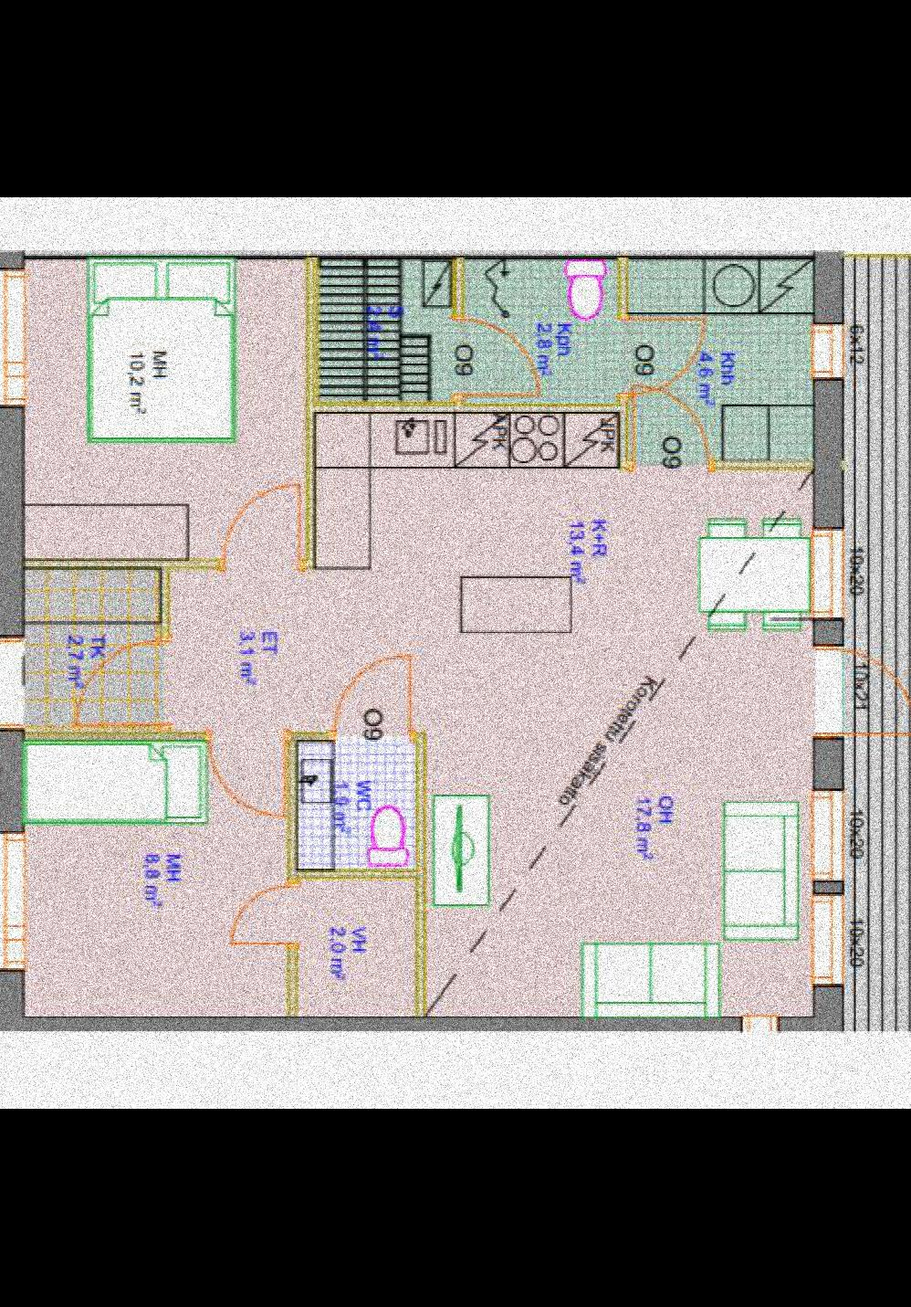door: (807, 638, 911, 744), (76, 637, 171, 730), (459, 314, 550, 408), (222, 477, 310, 573), (333, 645, 419, 739), (214, 724, 299, 817), (628, 386, 702, 479), (631, 313, 707, 397), (220, 876, 296, 959), (0, 639, 20, 728)
window: (0, 274, 25, 405), (0, 831, 22, 970), (810, 894, 845, 981), (814, 790, 844, 885), (817, 528, 842, 620), (809, 328, 847, 386)
zone: (17, 427, 813, 1025), (314, 259, 818, 474), (20, 274, 307, 565), (839, 253, 911, 1033)
